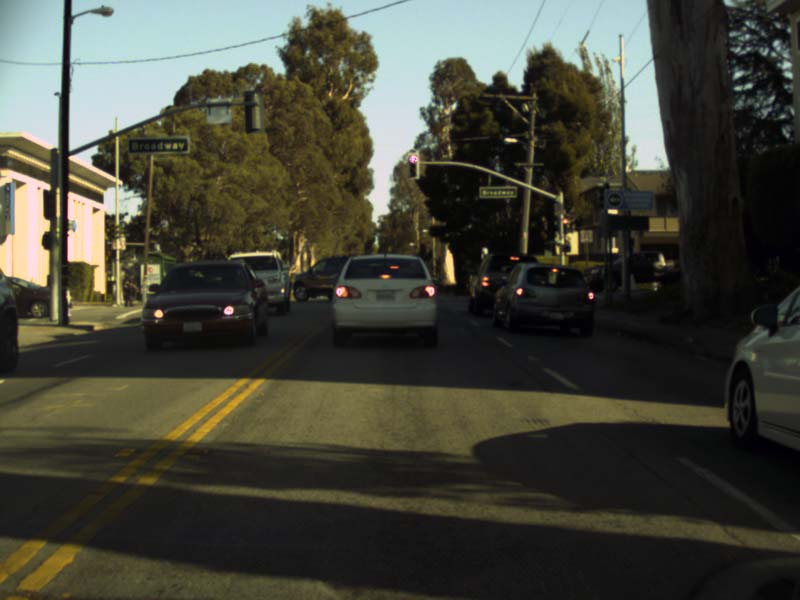Red: (407, 153, 417, 178), (562, 218, 567, 231)
